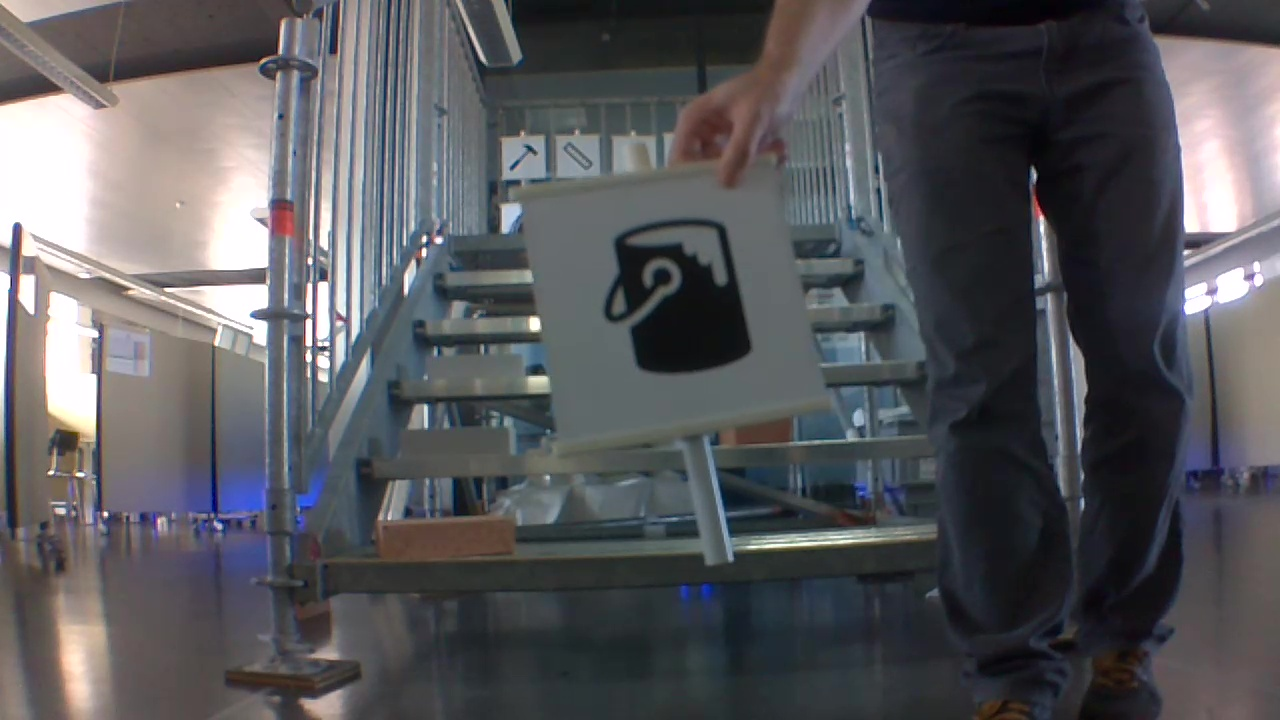brick: (373, 515, 521, 561), (397, 424, 518, 461), (421, 352, 523, 381)
bucket: (602, 218, 746, 379)
edge: (317, 537, 936, 601)
hammer: (507, 145, 543, 174)
ruler: (562, 140, 598, 175)
